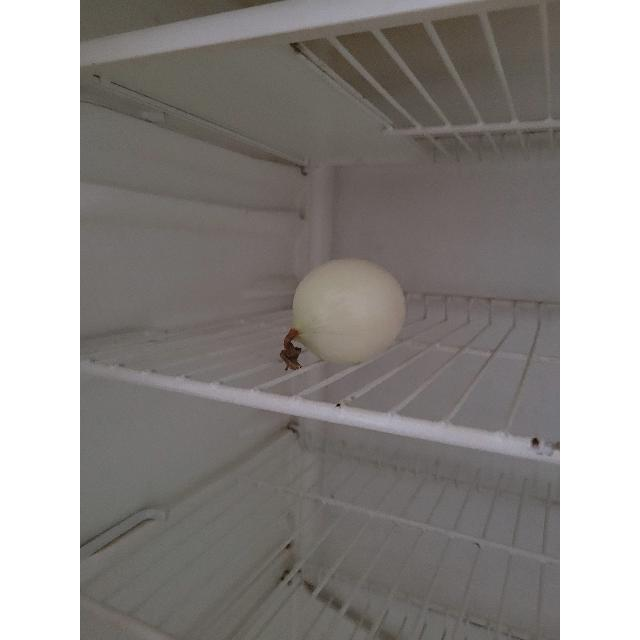onion: (282, 260, 404, 372)
